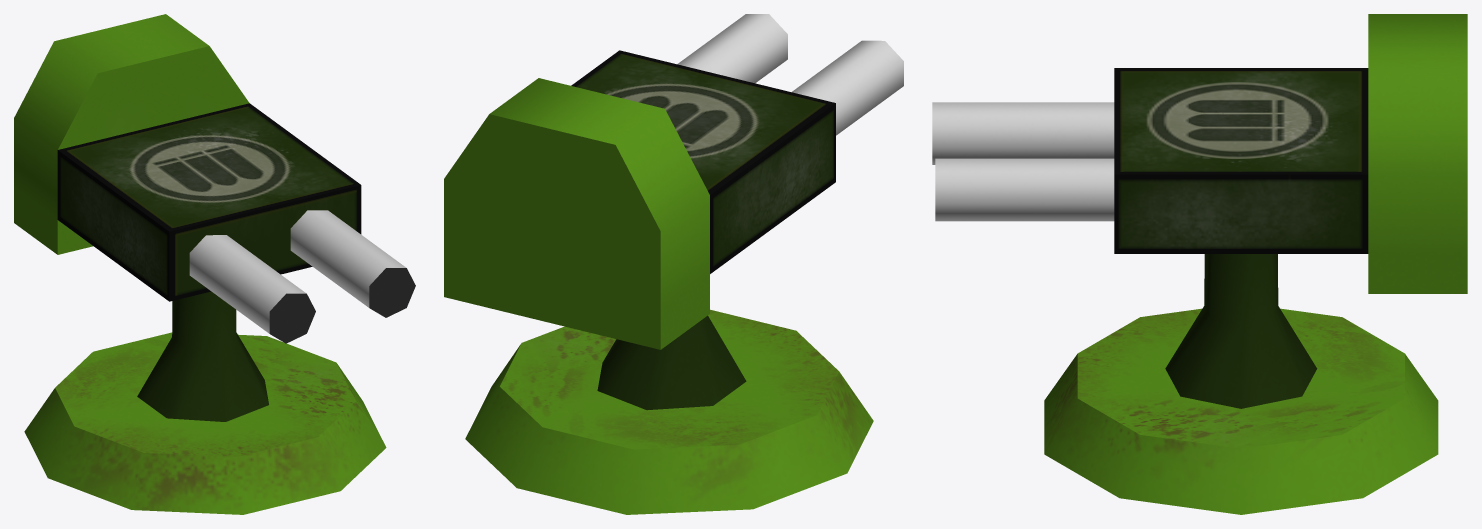
Rendered from LightGun.FBX.
3 renders of one model, left to right at view 1: azimuth 30°, elevation 25°; view 2: azimuth 150°, elevation 25°; view 3: azimuth 270°, elevation 25°, orthographic. The views are drawn at different scales.
Parts seen in each view (by area): view 1: LightGun_Head, LightGun_Basement, LightGun_Body; view 2: LightGun_Head, LightGun_Basement, LightGun_Body; view 3: LightGun_Head, LightGun_Basement, LightGun_Body.
Part boxes in pixels (x1,y1,x2,y2): LightGun_Head: [14, 14, 415, 343]; LightGun_Basement: [24, 332, 386, 514]; LightGun_Body: [137, 291, 268, 421]; LightGun_Head: [444, 14, 903, 349]; LightGun_Basement: [465, 309, 873, 514]; LightGun_Body: [597, 315, 746, 410]; LightGun_Head: [932, 14, 1467, 293]; LightGun_Basement: [1044, 308, 1438, 514]; LightGun_Body: [1165, 254, 1317, 408].
Size of the model in its own units: 40.82 by 41.84 by 52.79.
Materials: 2 (2 with a texture image).
